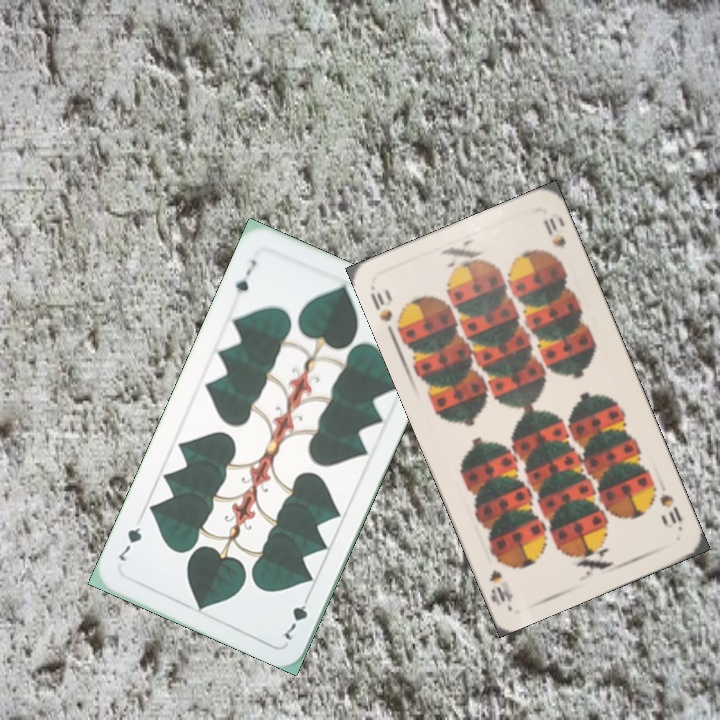G7: (280, 588, 314, 643), (231, 255, 260, 296)
S10: (366, 283, 407, 340), (655, 490, 685, 526)
